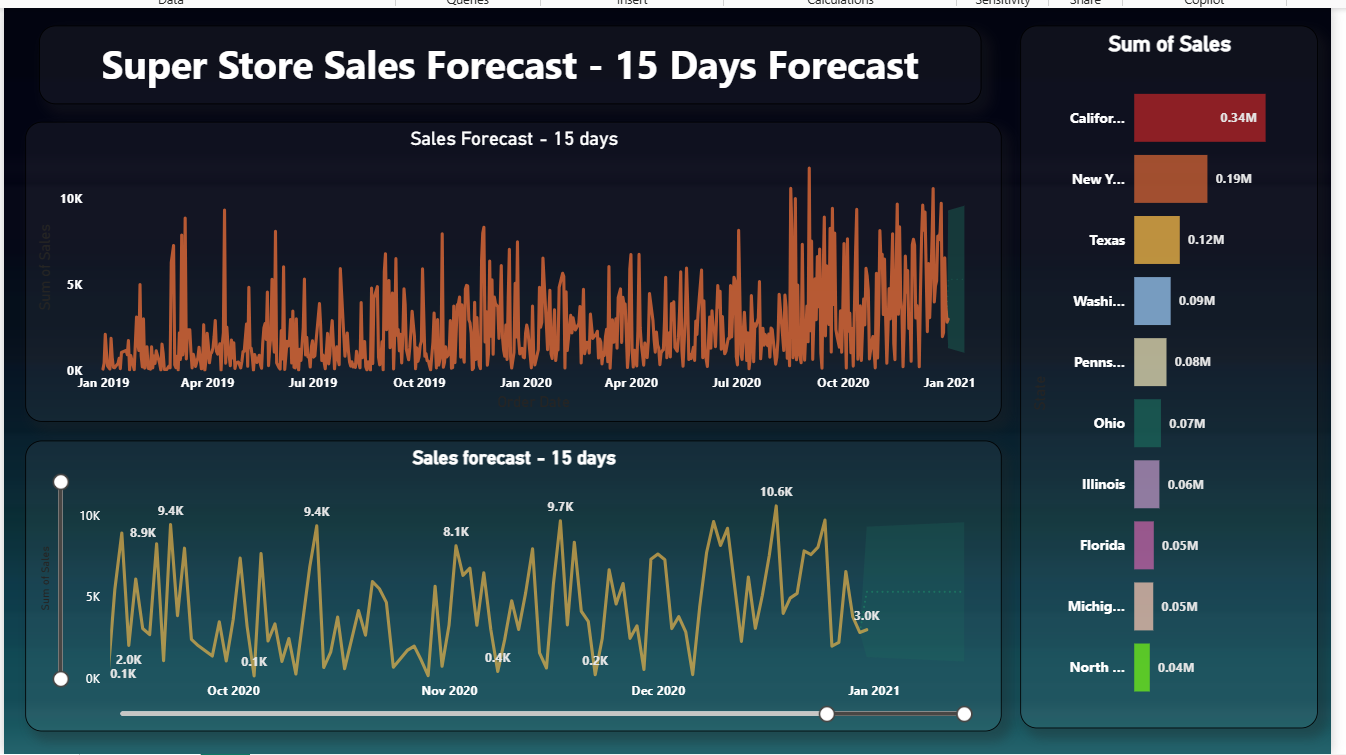

The page's visual inventory and layout, read from the dashboard file:
{"tool":"powerbi","page":{"name":"Forcasting","canvas":[1280,720],"ordinal":1},"visuals":[{"type":"lineChart","title":"Sales Forecast - 15 days","fields":{"Y":["Sum(SuperStore_Sales_Dataset.Sales)"],"Category":["SuperStore_Sales_Dataset.Order Date"]},"box":[20.5,109.8,942.2,289.5],"z":0},{"type":"lineChart","title":"Sales forecast - 15 days","fields":{"Y":["Sum(SuperStore_Sales_Dataset.Sales)"],"Category":["SuperStore_Sales_Dataset.Order Date"]},"box":[20.5,417.4,942.2,281.1],"z":1000},{"type":"clusteredBarChart","title":"Sum of Sales ","fields":{"Y":["Sum(SuperStore_Sales_Dataset.Sales)"],"Category":["SuperStore_Sales_Dataset.State"]},"box":[980.8,16.9,287.1,678],"z":2000},{"type":"textbox","box":[33.8,16.9,909.7,76],"z":2001}]}

Visuals, with their boxes on the page's 1280x720 design canvas (x1, y1, x2, y2). These are canvas units, not pixel positions in the 1346x755 screenshot, which may show the page scaled, cropped or inside an application window:
"Sales Forecast - 15 days" lineChart: 20 110 963 399
"Sales forecast - 15 days" lineChart: 20 417 963 698
"Sum of Sales " clusteredBarChart: 981 17 1268 695
textbox: 34 17 944 93
